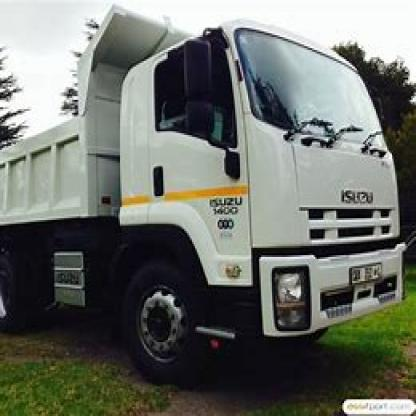dump_truck: (11, 0, 414, 392)
